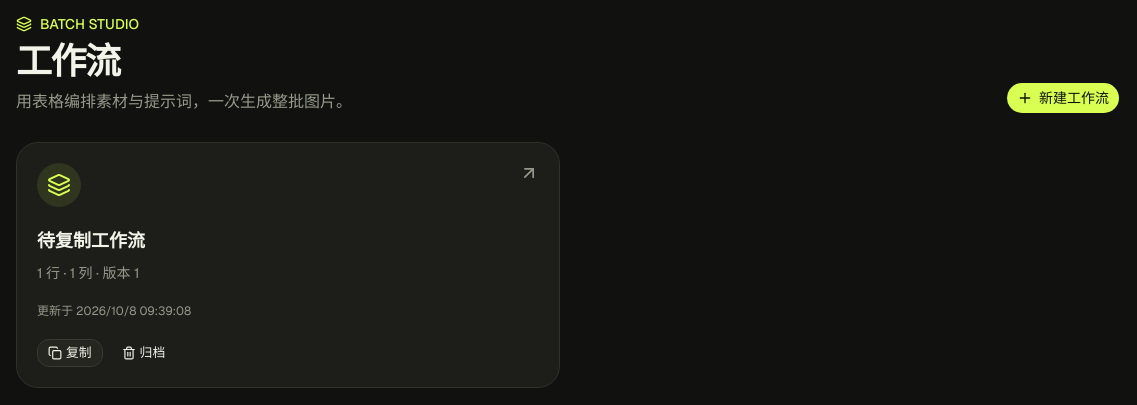
Test: workflows list › copies a workflow as a new server-side workflow
Step 1. Click the button "复制" → (70, 353), box [37,339,103,367]
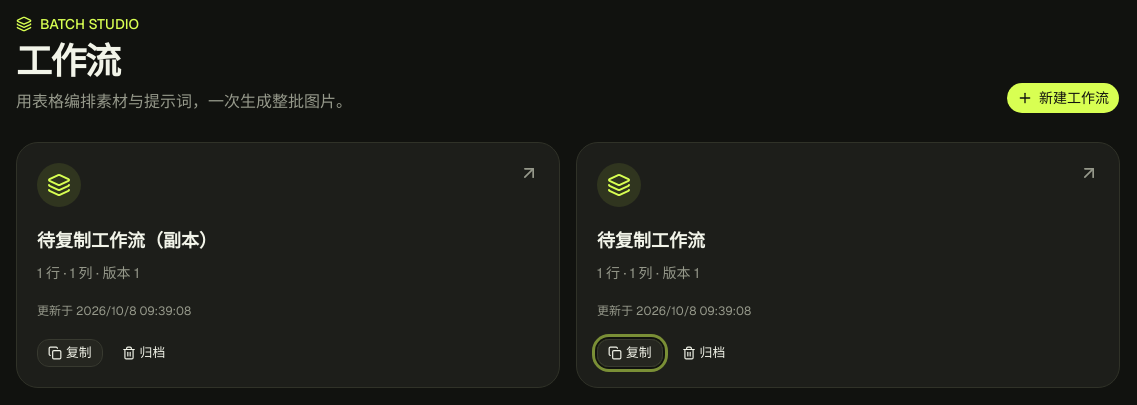
Expected: the heading "待复制工作流（副本）" is shown, [37,229,217,252]
